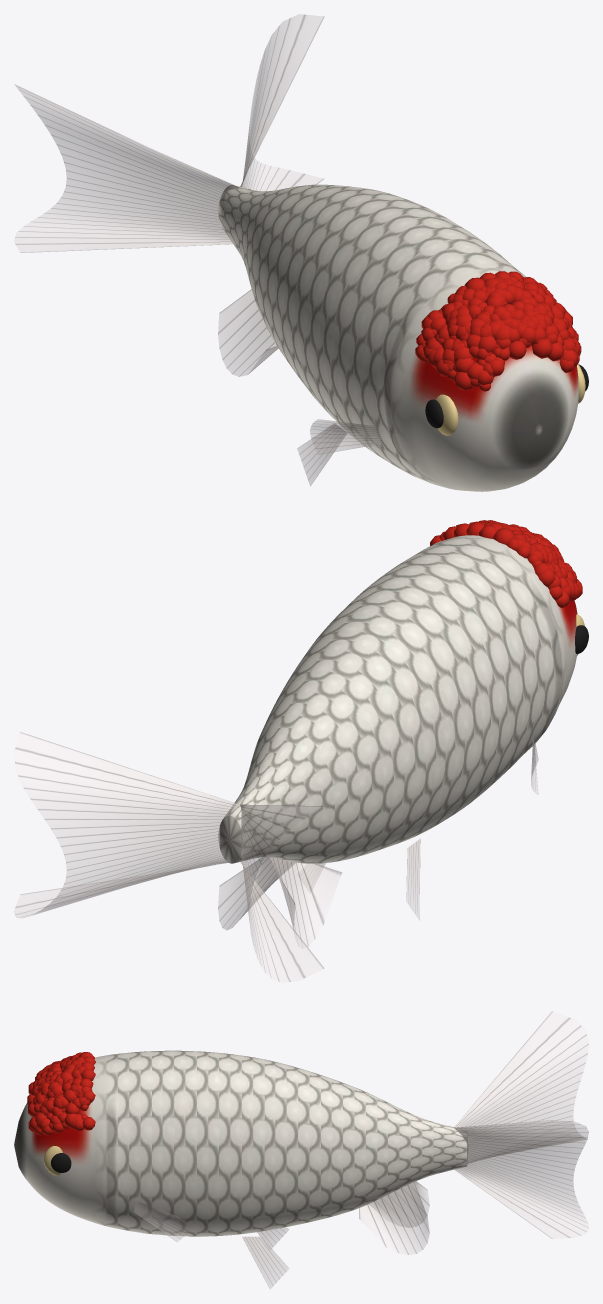
The model's file is tancho_1.glb.
The picture shows the model from 3 angles, top to bottom: view 1: azimuth 30°, elevation 25°; view 2: azimuth 150°, elevation 25°; view 3: azimuth 270°, elevation 25°; orthographic projection. The views are drawn at different scales.
Parts seen in each view (by area): view 1: body, fins, wen, iris; view 2: body, fins, wen; view 3: body, fins, wen.
Boxes of the visible parts, bbox=[...] form: body: bbox=[218, 184, 578, 491]; fins: bbox=[14, 14, 381, 486]; wen: bbox=[415, 271, 581, 391]; iris: bbox=[436, 364, 585, 435]; body: bbox=[218, 535, 577, 863]; fins: bbox=[14, 731, 538, 982]; wen: bbox=[430, 520, 582, 607]; body: bbox=[14, 1050, 467, 1236]; fins: bbox=[134, 1011, 588, 1288]; wen: bbox=[27, 1052, 95, 1135].
Size of the model in its own units: 0.4 by 0.3673 by 0.8933.
5 materials, 2 textured.
